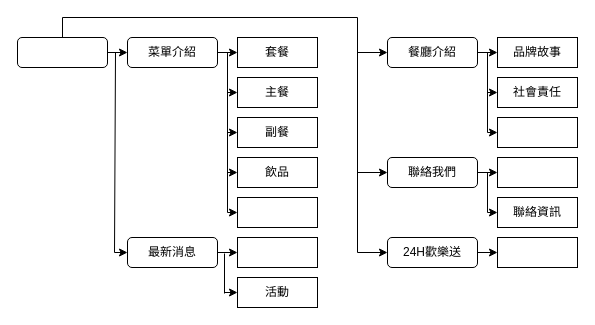
The diagram is 595 pixels wide and 325 high, and some of its shapes have lost their labels. Each missing label, with the centre of its shape:
"優惠" goes at point (277, 252).
"搜餐廳" goes at point (537, 132).
"線上客服中心" goes at point (537, 172).
"首頁" goes at point (62, 52).
"點心" goes at point (277, 212).
"點餐" goes at point (537, 252).
